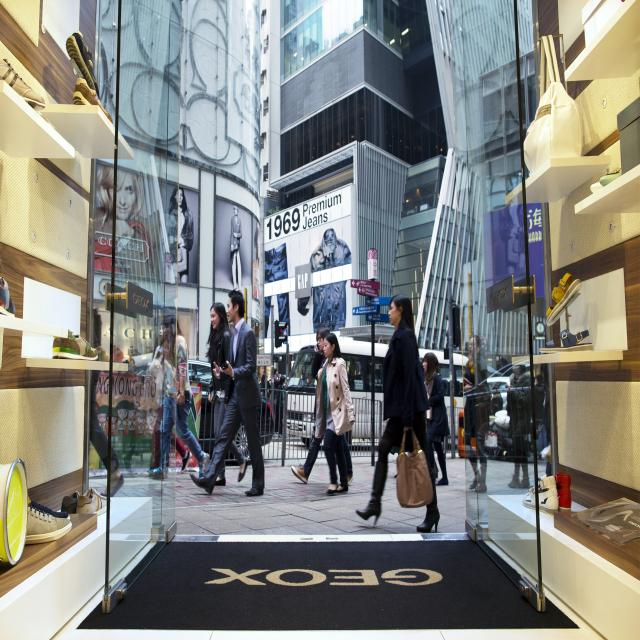body: (90, 164, 288, 497), (354, 292, 441, 536), (188, 287, 266, 497), (147, 312, 211, 481), (290, 325, 354, 486), (204, 301, 251, 488), (314, 333, 356, 498), (149, 320, 192, 474), (460, 334, 493, 494), (506, 373, 553, 476), (420, 352, 451, 487), (505, 364, 532, 490), (534, 373, 547, 461), (489, 384, 504, 459), (276, 374, 286, 440), (260, 373, 272, 400)
